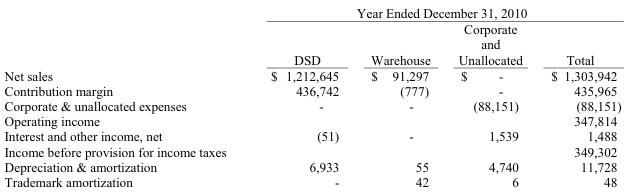table: (3, 3, 620, 190)
table column: (3, 3, 247, 190), (247, 3, 354, 190), (443, 3, 536, 190), (354, 3, 443, 190), (536, 3, 620, 190)
table column header: (3, 3, 620, 66)
table row: (3, 20, 620, 66), (3, 3, 620, 20), (3, 173, 620, 190), (3, 66, 620, 82), (3, 112, 620, 128), (3, 82, 620, 97), (3, 97, 620, 112), (3, 128, 620, 143), (3, 143, 620, 158), (3, 158, 620, 173)
table spanning cell: (247, 3, 620, 20)
